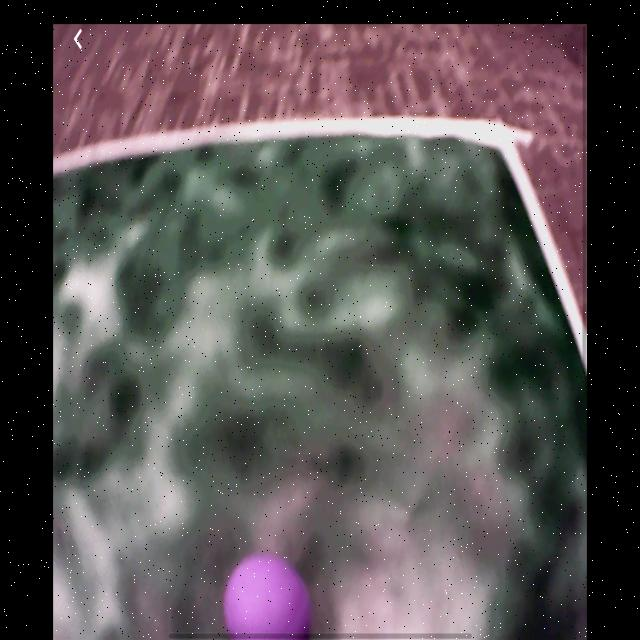ball: (223, 552, 313, 639)
